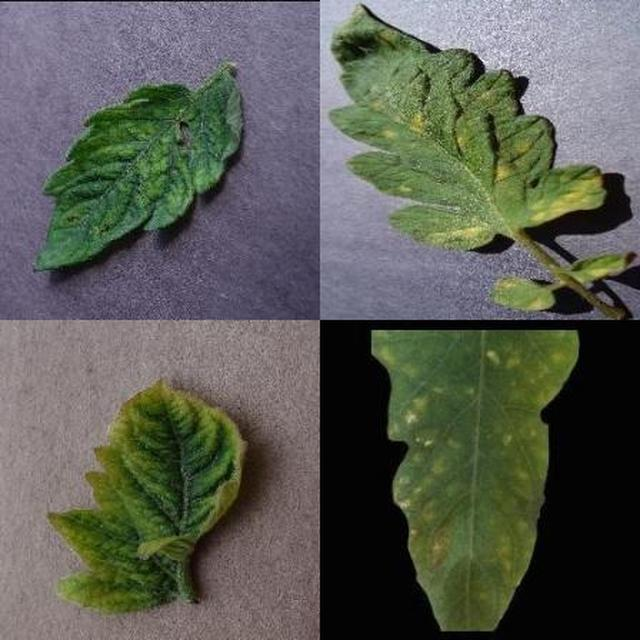Mosaic Virus Leaf: (193, 180, 640, 640)
